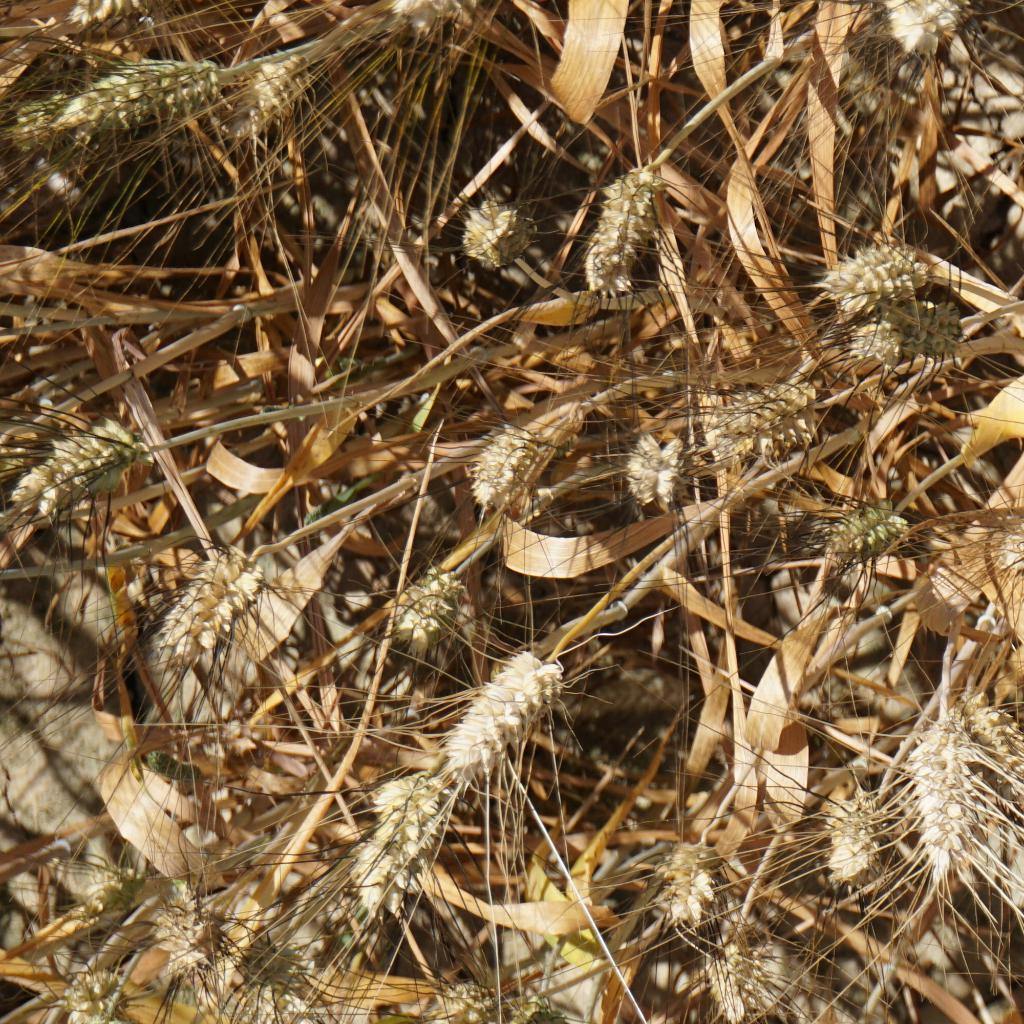0-0: (54, 45, 240, 139), (590, 160, 682, 298), (702, 371, 835, 462), (153, 561, 265, 662), (816, 226, 944, 314), (456, 661, 560, 763), (914, 709, 981, 864), (361, 787, 459, 887), (464, 422, 560, 512), (27, 425, 124, 510), (643, 837, 719, 944), (816, 489, 925, 563), (840, 298, 965, 362), (244, 928, 328, 1020), (162, 883, 231, 987), (876, 0, 975, 68), (620, 428, 699, 507), (382, 571, 463, 647), (820, 782, 884, 874), (15, 93, 93, 160), (463, 186, 537, 254), (75, 853, 144, 925), (698, 932, 753, 1018), (974, 694, 1024, 786), (399, 0, 520, 36), (254, 56, 311, 116), (72, 963, 119, 1024), (56, 0, 150, 16), (1008, 487, 1024, 566)
